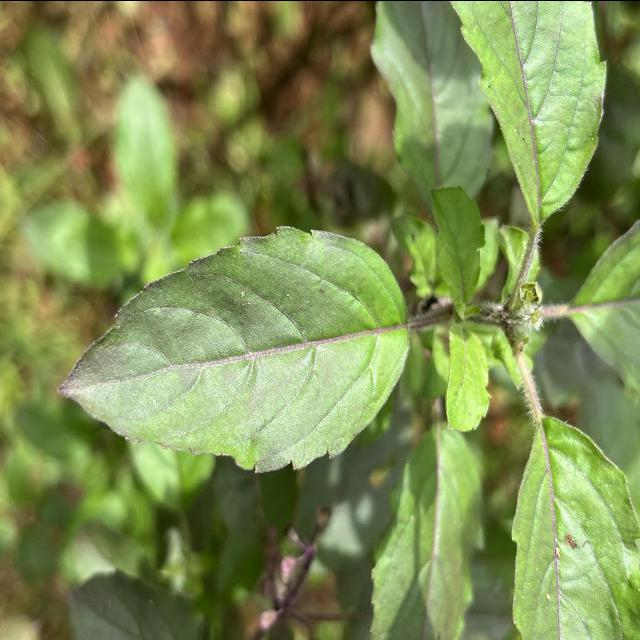Ocimum tenuiflorum: (52, 218, 414, 479)
